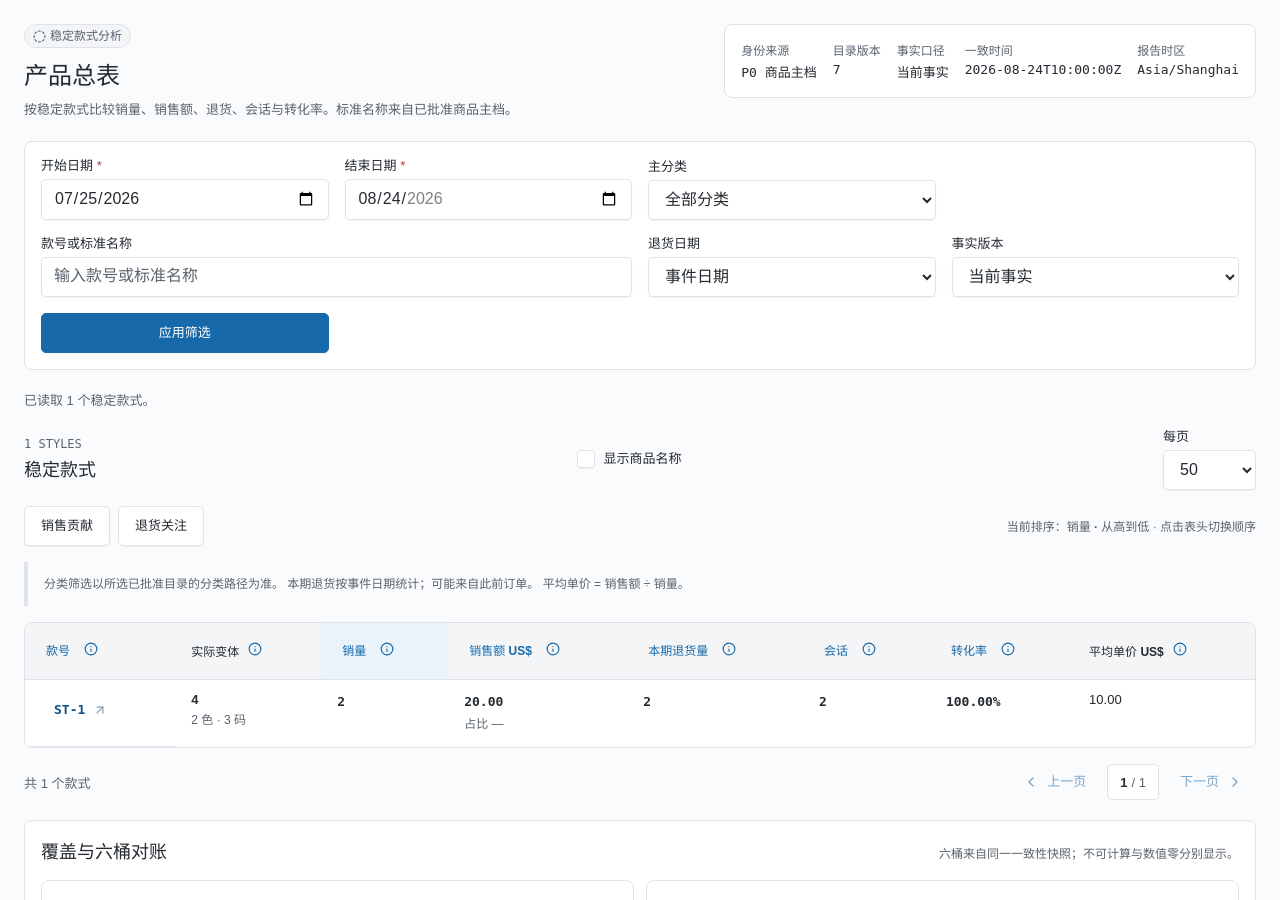
Test: ProductLedgerPage › loads only the stable-style endpoint adapter and renders standard identity
Expected: the text "标准外套" is not shown
Step 1. Click the button with aria-label "查看款号 ST-1 商品信息" → coordinates (100, 710), box left=41, top=692, right=159, bottom=728
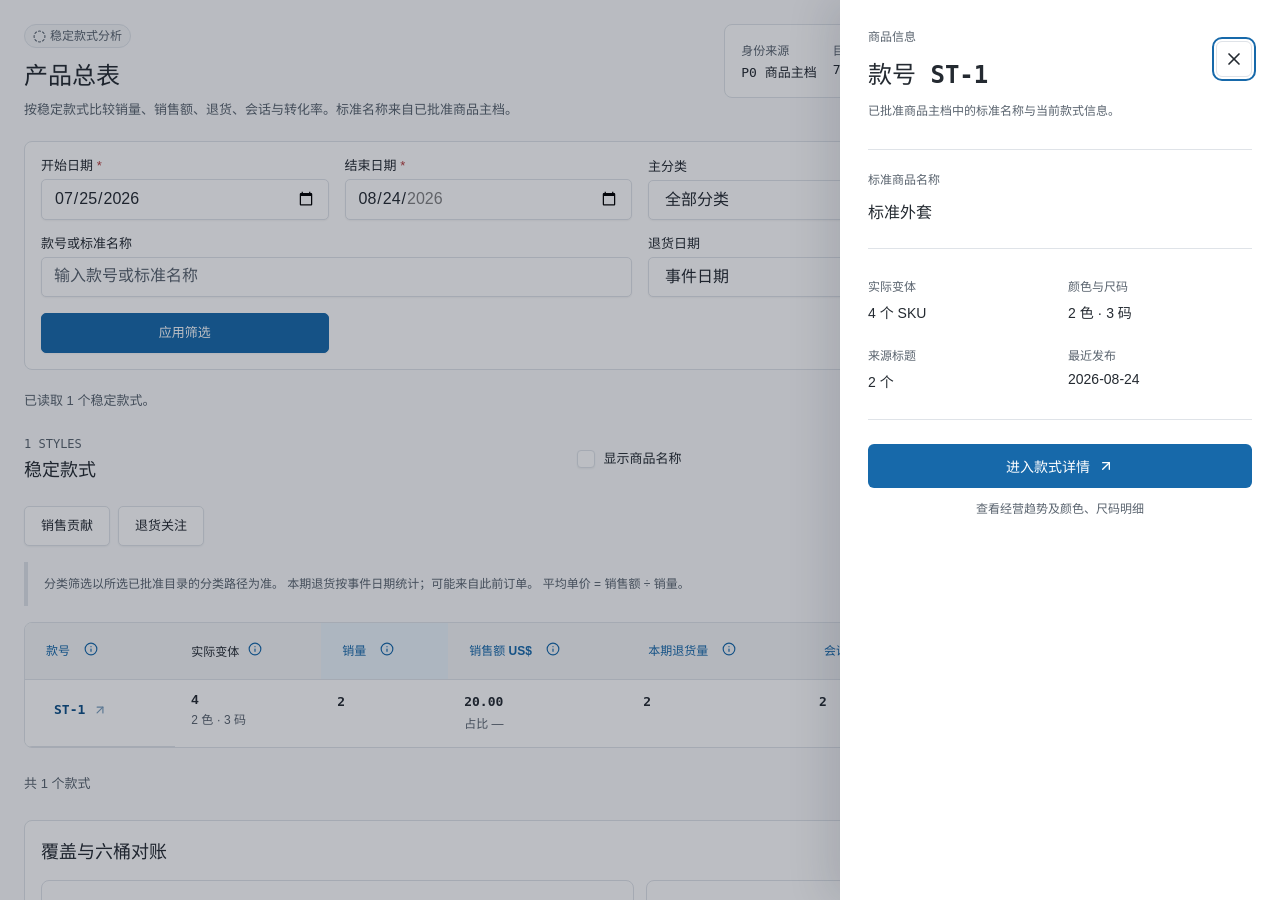
Expected: the dialog is shown, left=840, top=0, right=1279, bottom=899
Expected: the text "标准外套" is shown, left=868, top=204, right=932, bottom=221
Step 2. Click the button named "关闭商品信息" → coordinates (1234, 59), box left=1216, top=41, right=1252, bottom=77
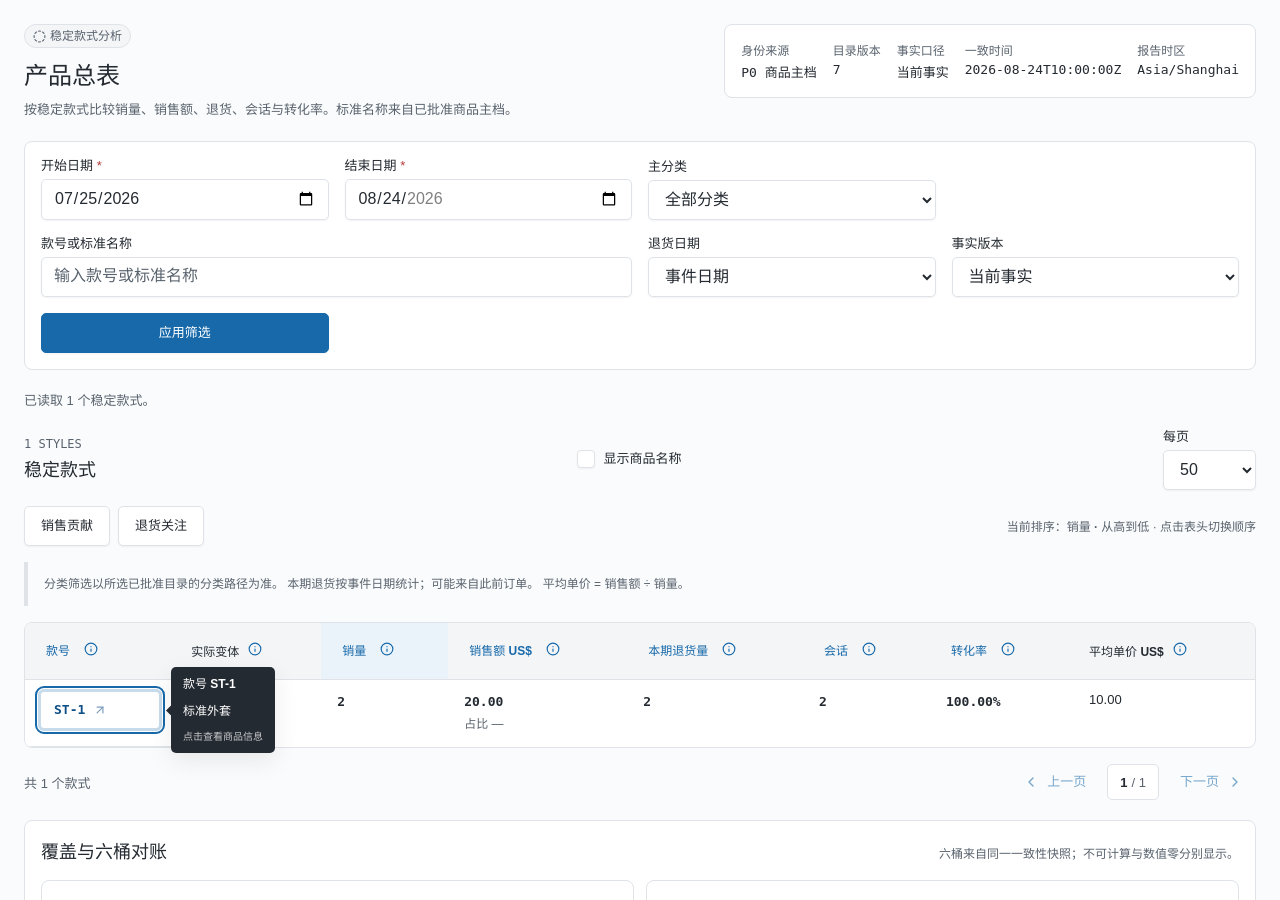
Expected: the dialog is gone
Step 3. Click the checkbox labelled "显示商品名称" → coordinates (586, 459), box left=578, top=450, right=596, bottom=468
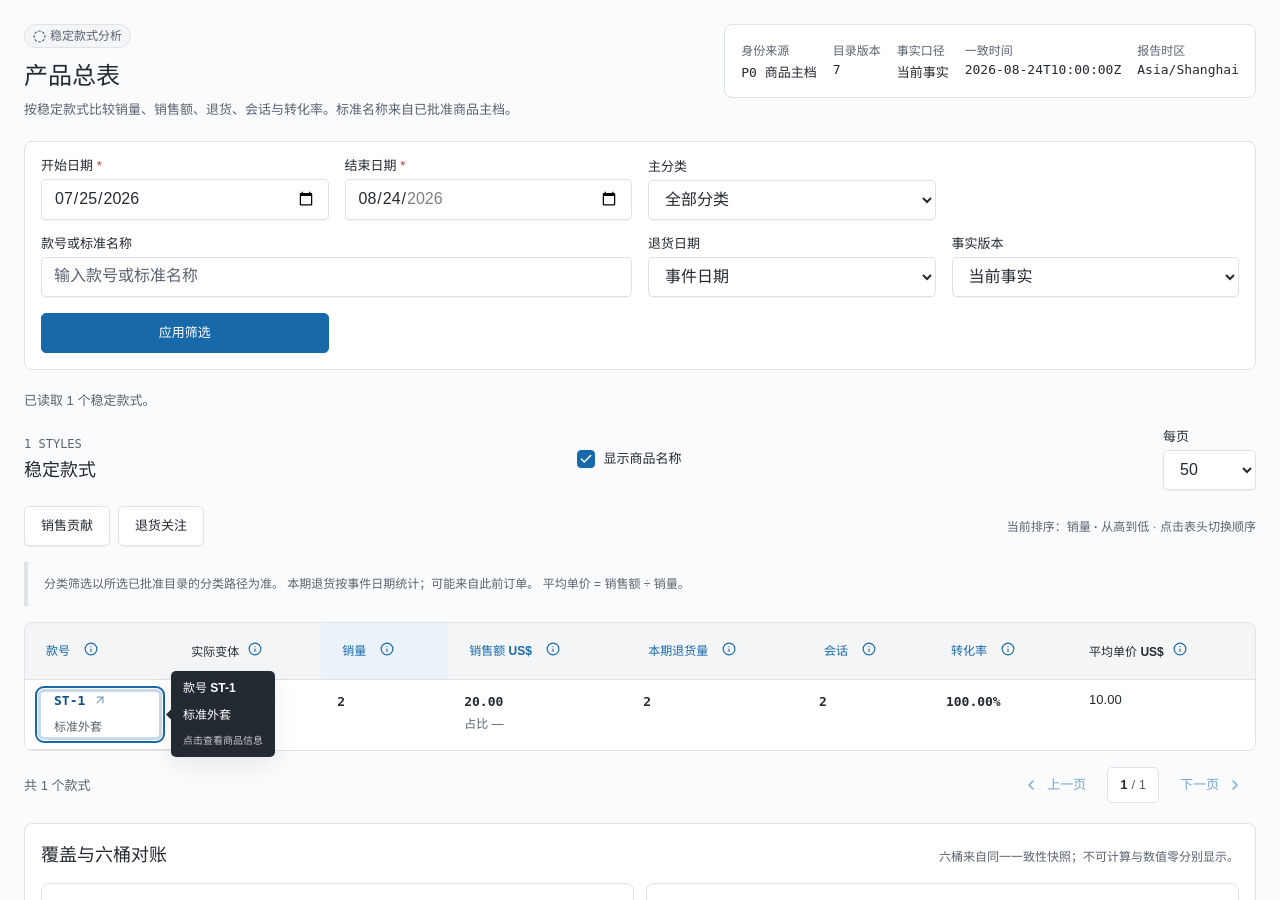
Expected: the text "标准外套" in the row of "色 ·" is shown, left=54, top=720, right=102, bottom=734
